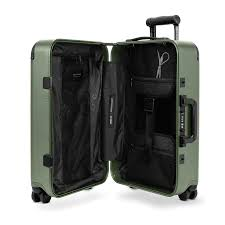suitcase: (28, 16, 202, 203)
